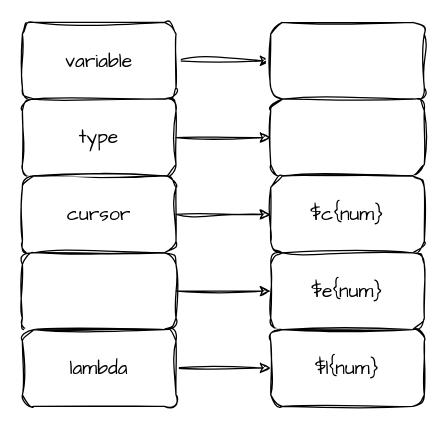
The diagram is 447 pixels wide and 429 high, and some of its shapes have lost their labels. Here are the shapes that lost their labels. From the top down, the centre of each, then its label:
At point (346, 60): "$v{num}".
At point (346, 137): "$t{num}".
At point (98, 291): "exception".
